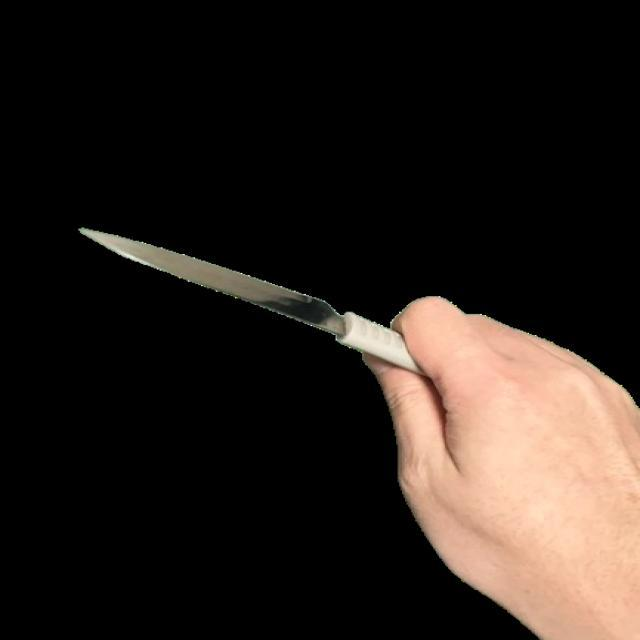knife: (68, 225, 435, 387)
